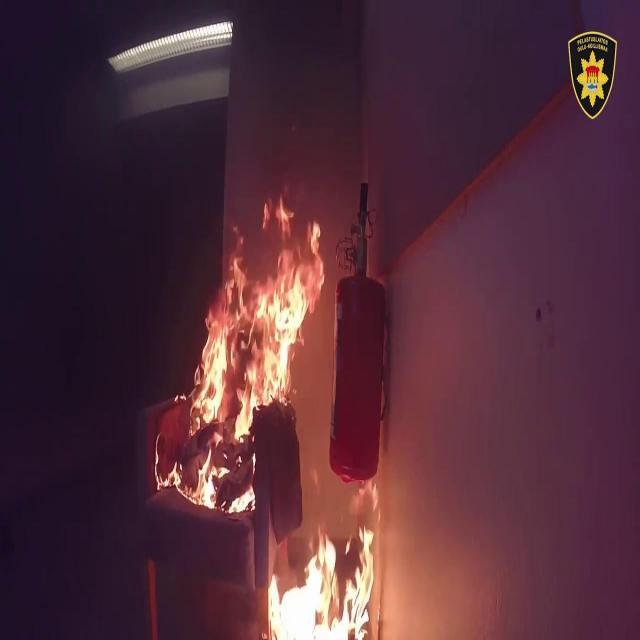fire: (159, 197, 324, 526), (270, 530, 383, 640)
